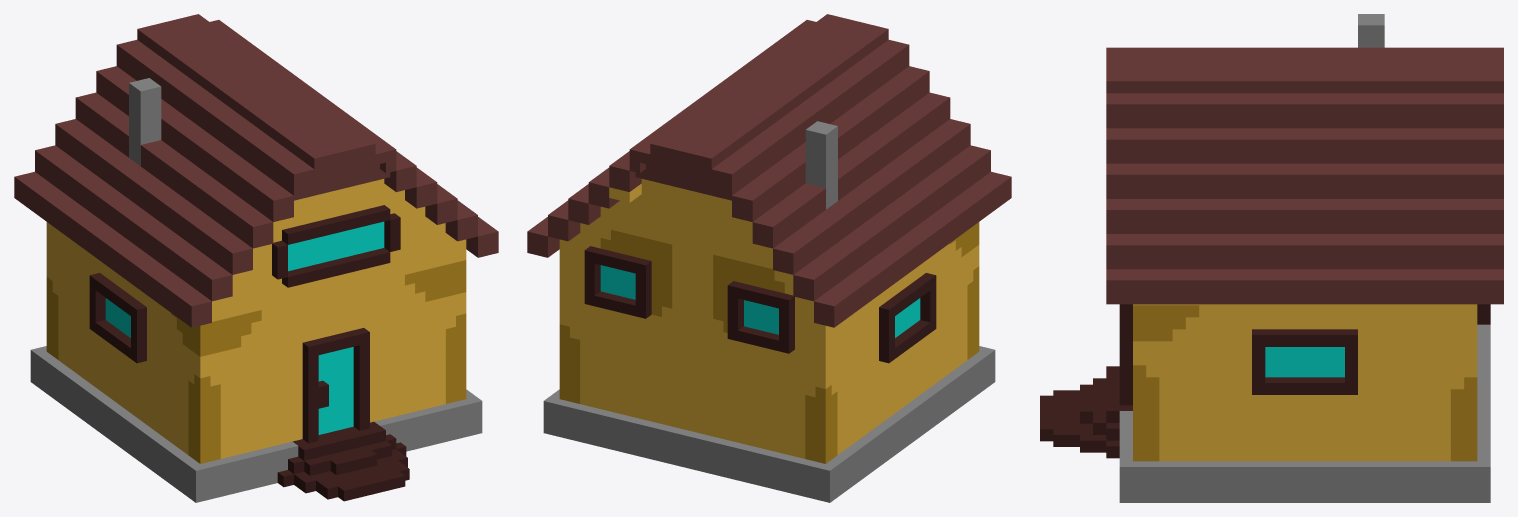
File: House_0.fbx
The picture shows the model from 3 angles, left to right: view 1: azimuth 30°, elevation 25°; view 2: azimuth 150°, elevation 25°; view 3: azimuth 270°, elevation 25°; orthographic projection. The views are drawn at different scales.
Parts seen in each view (by area): view 1: House_0; view 2: House_0; view 3: House_0.
Boxes of the visible parts, bbox=[...] form: House_0: bbox=[14, 14, 498, 502]; House_0: bbox=[527, 14, 1011, 502]; House_0: bbox=[1040, 14, 1503, 502].
Size of the model in its own units: 30 by 30 by 35.
Materials: 1 (1 with a texture image).
